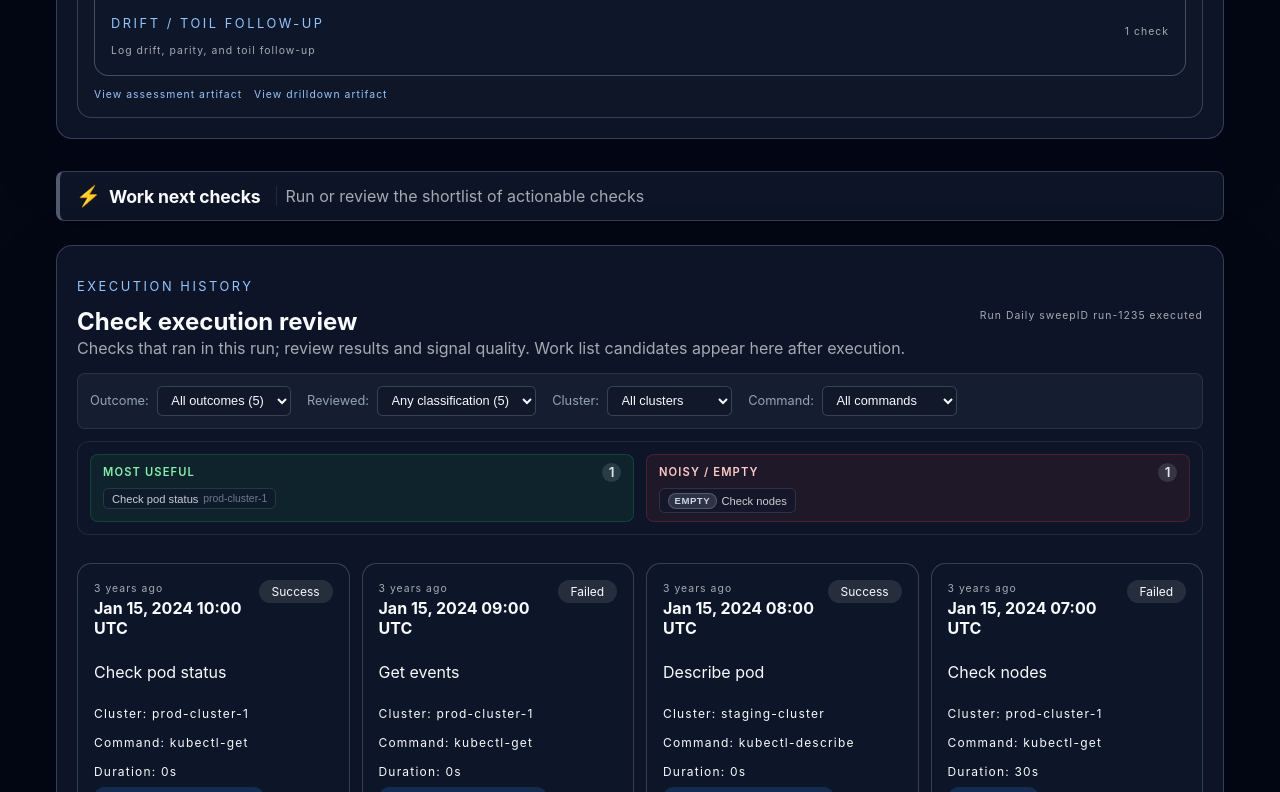
ExecutionHistoryPanel UI tests › empty state rendering › shows filter-empty message when filters exclude all entries
(page scrolled)
Note: Apply a filter that matches nothing
Step 1. Select "Timeout (1)" in the dropdown labelled "Outcome:" → (224, 401), box [157, 386, 291, 416]
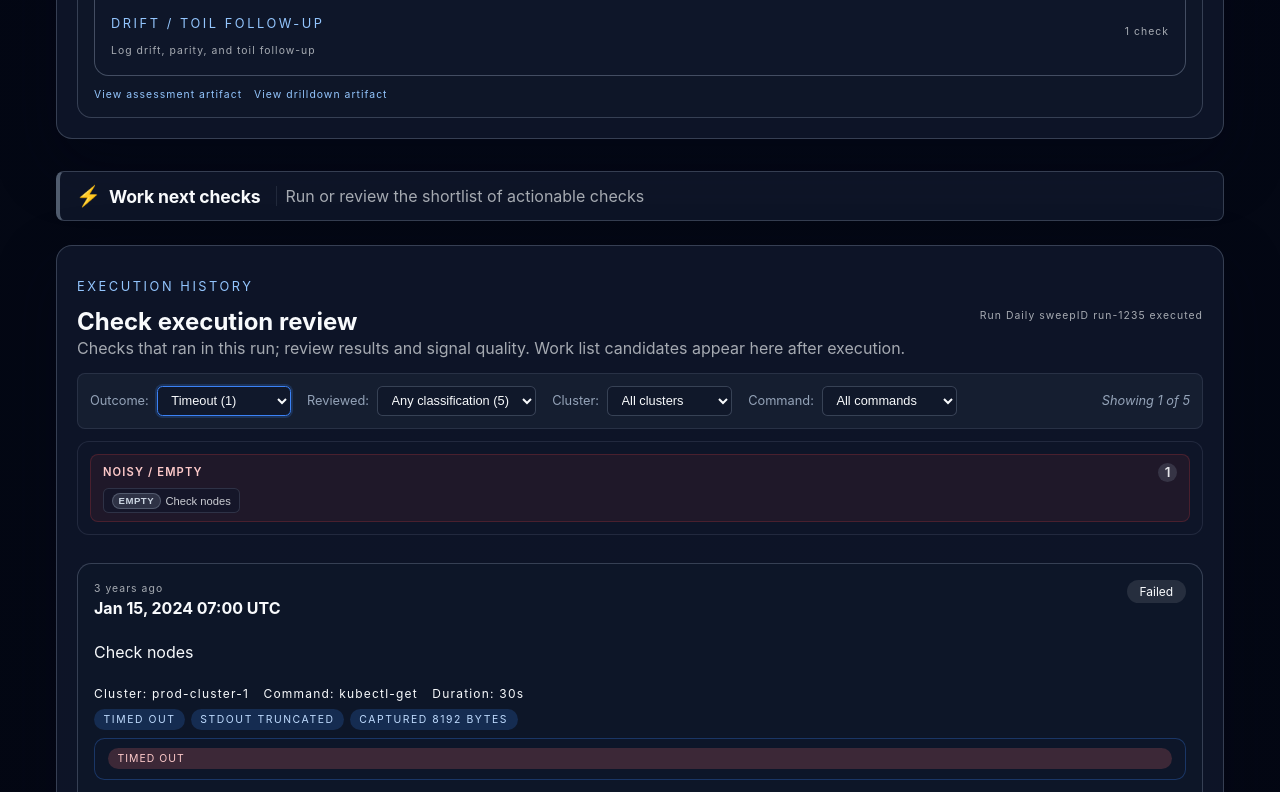
Note: Apply usefulness filter for something that won't match
Step 2. Select "Useful (1)" in the dropdown labelled "Reviewed:" → (457, 401), box [377, 386, 536, 416]
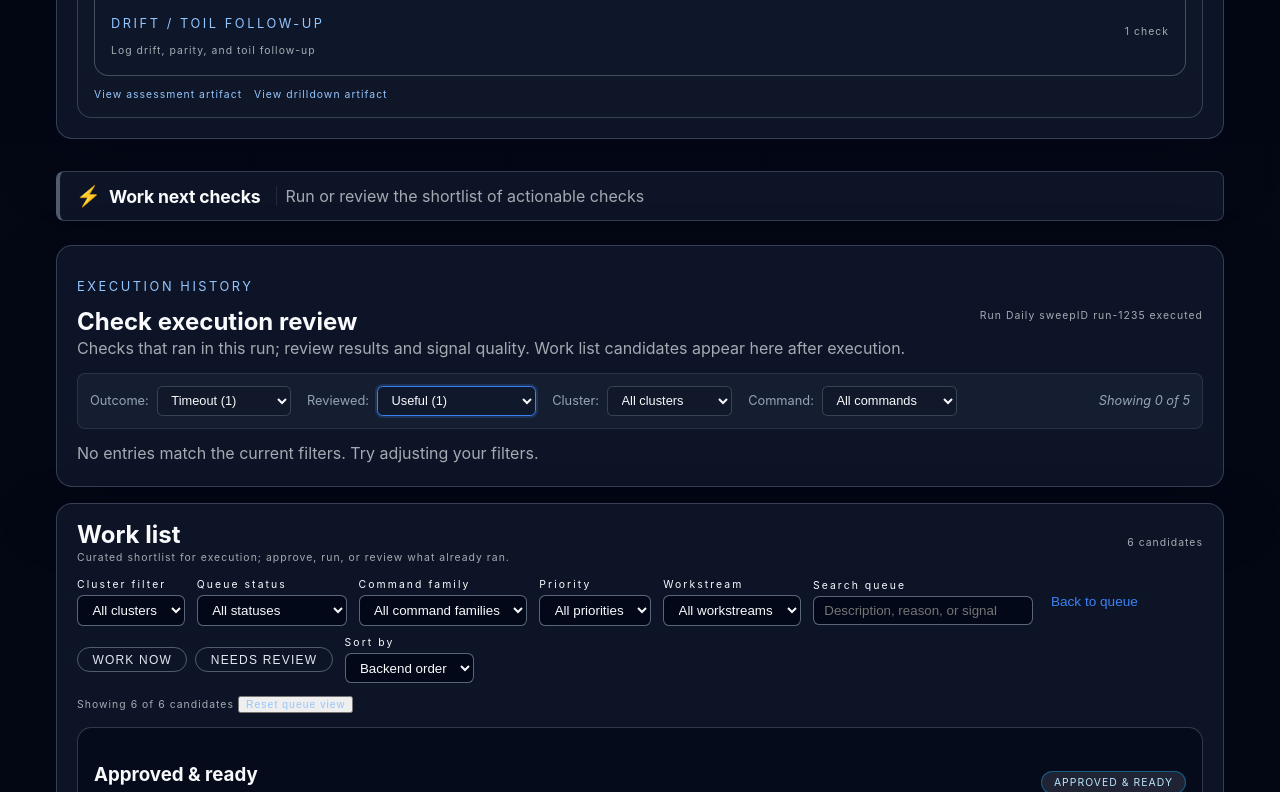
Expected: the text "No entries match the current filters" is shown, [77, 443, 538, 463]
